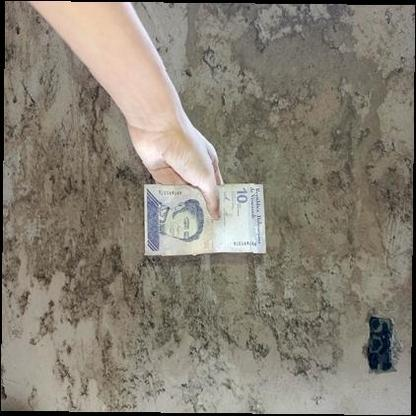ten-front-vef: (143, 183, 267, 255)
